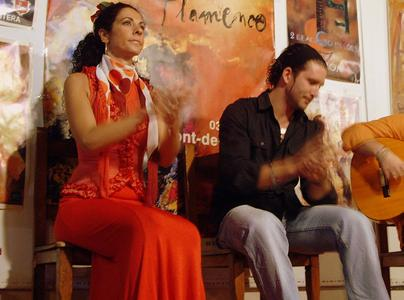person: (53, 4, 209, 300)
